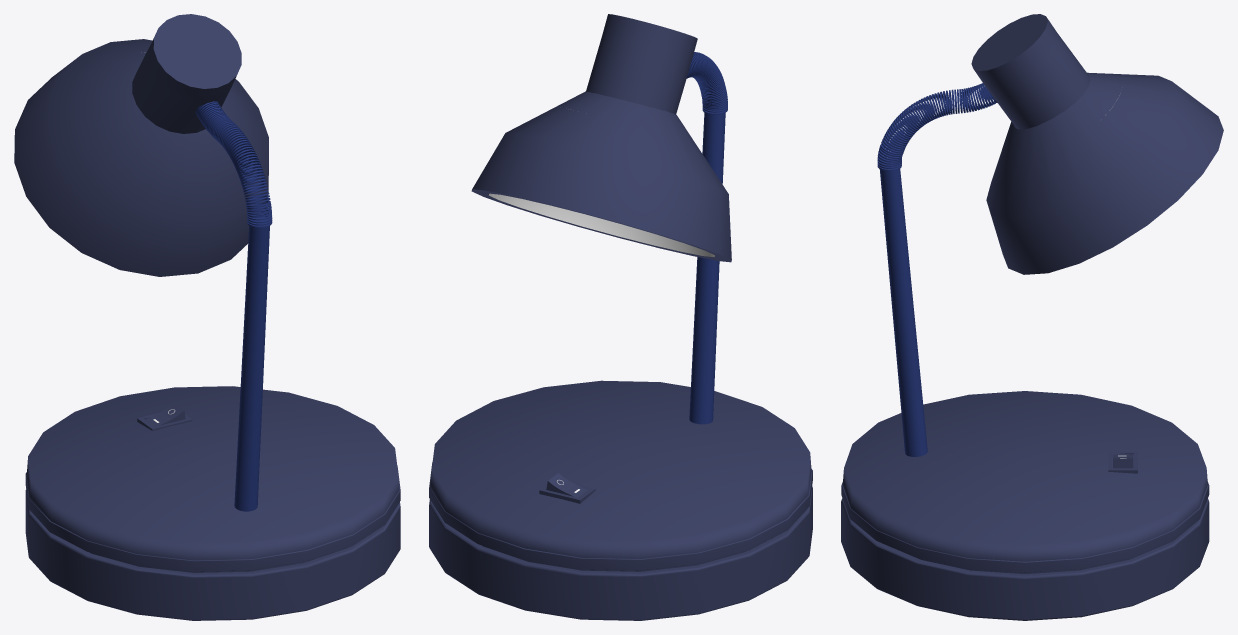
File: LampBlue.fbx
3 views of the same model, side by side, from view 1: azimuth 30°, elevation 25°; view 2: azimuth 150°, elevation 25°; view 3: azimuth 270°, elevation 25° (orthographic). The views are drawn at different scales.
Visible parts, largest first — view 1: pCylinder3, group2, pCylinder1, pCylinder4, pPipe61; view 2: pCylinder3, group2, pCylinder1, pCylinder4, pPipe61, pCube2; view 3: pCylinder3, group2, pCylinder1, pCylinder4, pPipe61.
Boxes of the visible parts, x1,y1,x2,y2 form: pCylinder3: (25, 386, 400, 571); group2: (14, 14, 268, 276); pCylinder1: (25, 489, 400, 620); pCylinder4: (234, 217, 269, 511); pPipe61: (195, 101, 272, 227); pCylinder3: (429, 380, 812, 570); group2: (471, 14, 731, 262); pCylinder1: (429, 486, 812, 620); pCylinder4: (689, 112, 725, 424); pPipe61: (686, 52, 727, 114); pCube2: (546, 473, 587, 497); pCylinder3: (841, 391, 1209, 572); group2: (971, 14, 1223, 274); pCylinder1: (841, 498, 1209, 620); pCylinder4: (879, 161, 927, 456); pPipe61: (877, 83, 997, 171).
Size of the model in its own units: 32.8 by 50.33 by 34.11.
